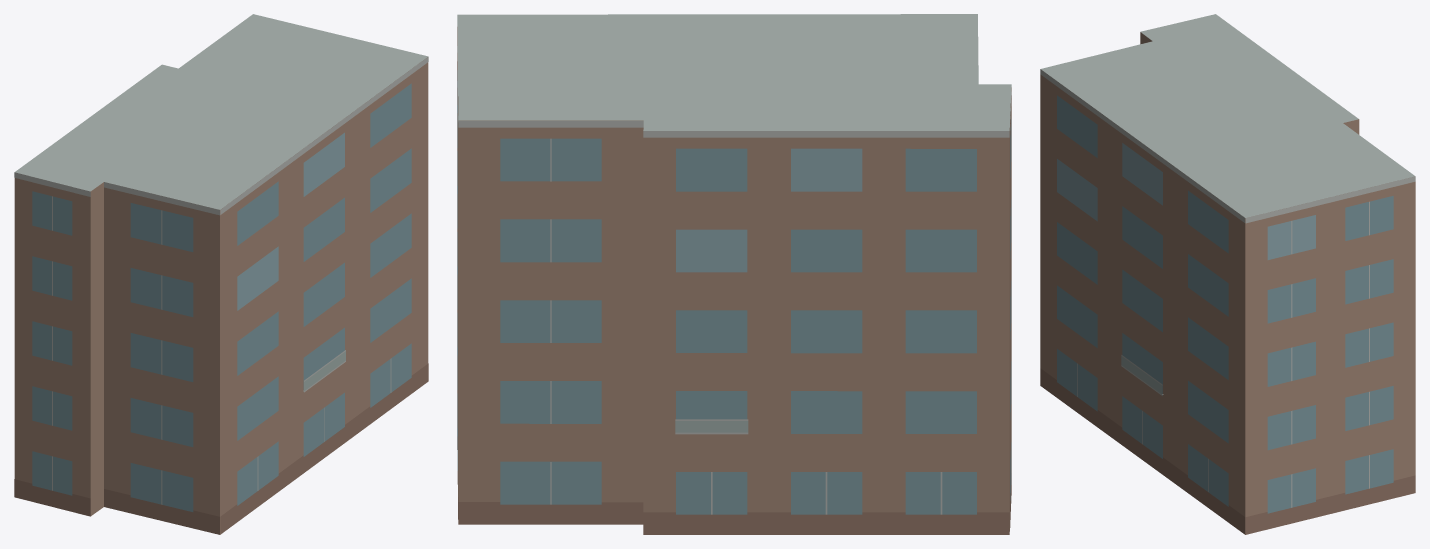
The model's file is survey-upis-32716726.glb.
3 renders of one model, left to right at view 1: azimuth 30°, elevation 25°; view 2: azimuth 150°, elevation 25°; view 3: azimuth 270°, elevation 25°, orthographic. The views are drawn at different scales.
Parts seen in each view (by area): view 1: survey-upis-32716726.tmp; view 2: survey-upis-32716726.tmp; view 3: survey-upis-32716726.tmp.
Part boxes in pixels (x1=…): survey-upis-32716726.tmp: x1=14, y1=14, x2=428, y2=534; survey-upis-32716726.tmp: x1=457, y1=14, x2=1011, y2=534; survey-upis-32716726.tmp: x1=1040, y1=14, x2=1415, y2=534.
Size of the model in its own units: 19.91 by 14.4 by 15.47.
